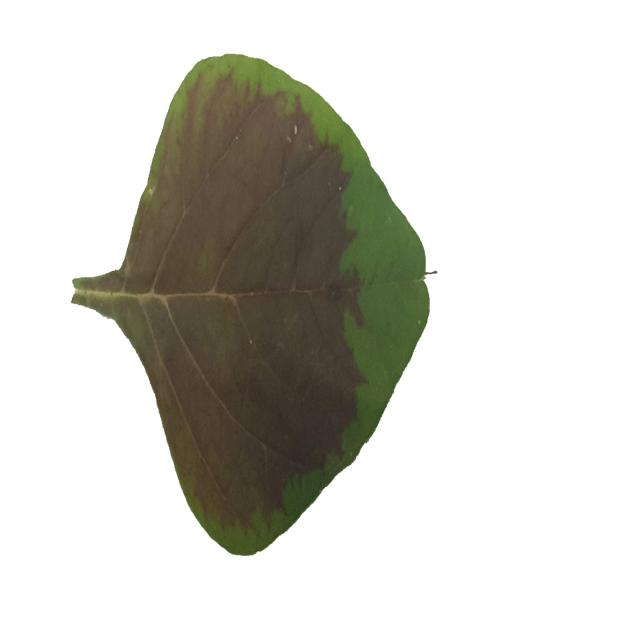Medicinal-Arive Dantu: (71, 46, 433, 559)
